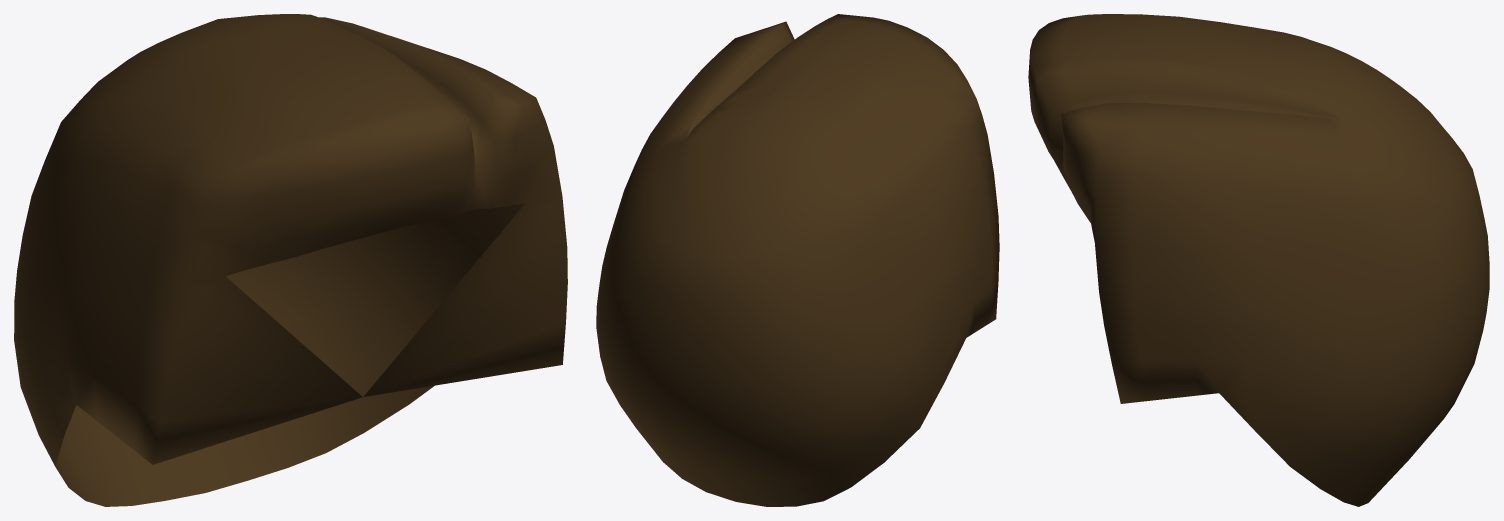
Rendered from hair_hair_109.gltf.
3 renders of one model, left to right at view 1: azimuth 30°, elevation 25°; view 2: azimuth 150°, elevation 25°; view 3: azimuth 270°, elevation 25°, orthographic. The views are drawn at different scales.
Parts seen in each view (by area): view 1: hair.109; view 2: hair.109; view 3: hair.109.
Part boxes in pixels (x1=…): hair.109: x1=14, y1=14, x2=567, y2=506; hair.109: x1=596, y1=14, x2=999, y2=506; hair.109: x1=1028, y1=14, x2=1489, y2=506.
Size of the model in its own units: 0.6323 by 0.7097 by 0.6763.
